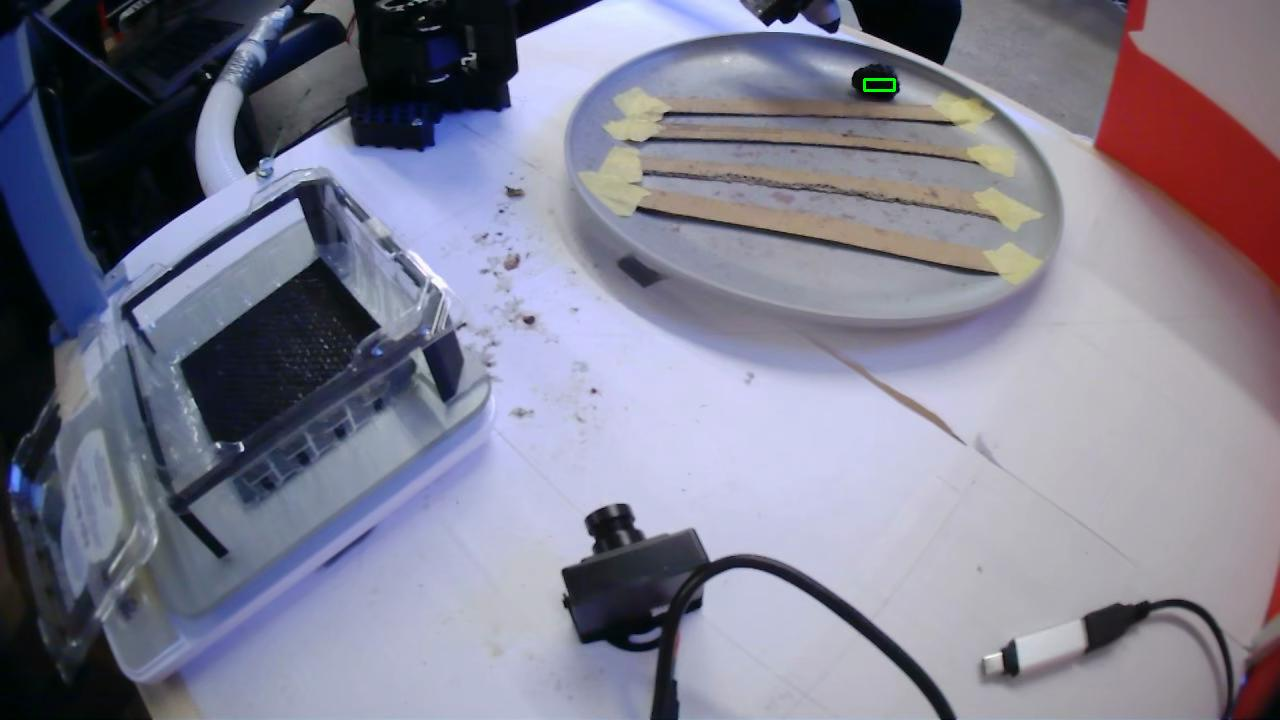berry: (852, 64, 898, 98)
